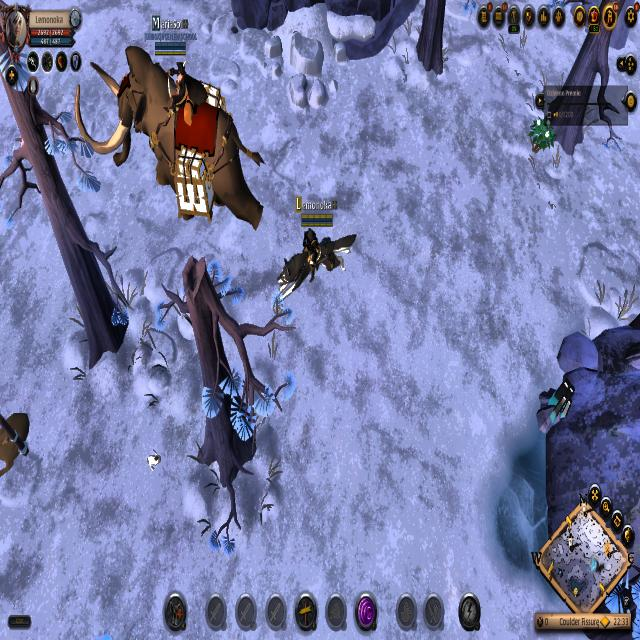ore tier 4: (536, 379, 574, 435)
